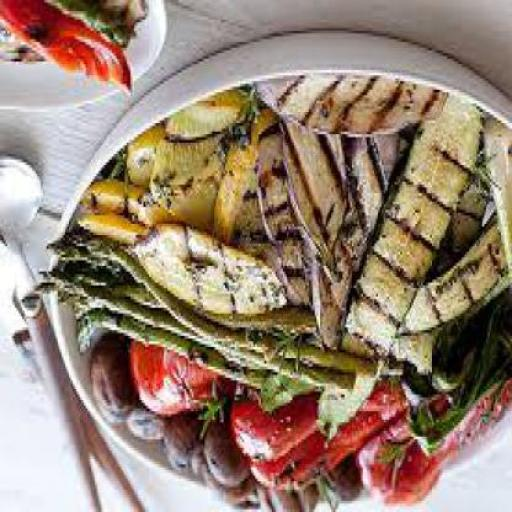biodegradable: (33, 84, 511, 510), (315, 98, 480, 440), (45, 249, 355, 397), (35, 271, 358, 397), (352, 386, 510, 509), (313, 131, 400, 350), (75, 328, 286, 417), (250, 389, 404, 490), (130, 223, 280, 322), (394, 226, 506, 338), (0, 2, 130, 95), (249, 78, 441, 140), (279, 131, 352, 289), (406, 355, 510, 454), (258, 126, 309, 305), (216, 115, 274, 241), (128, 350, 229, 420), (147, 135, 226, 221), (432, 165, 490, 277), (227, 398, 315, 464), (160, 90, 247, 148), (462, 291, 510, 395), (44, 3, 146, 50), (481, 120, 510, 278), (90, 336, 134, 428), (400, 361, 474, 411), (201, 423, 248, 489), (119, 128, 168, 188), (75, 212, 149, 250), (253, 378, 314, 420), (82, 176, 147, 215), (160, 420, 202, 472), (318, 459, 360, 510), (255, 484, 316, 512), (124, 408, 164, 445), (219, 478, 259, 510), (106, 291, 166, 311), (198, 403, 224, 434), (376, 445, 408, 469), (186, 442, 203, 481)
